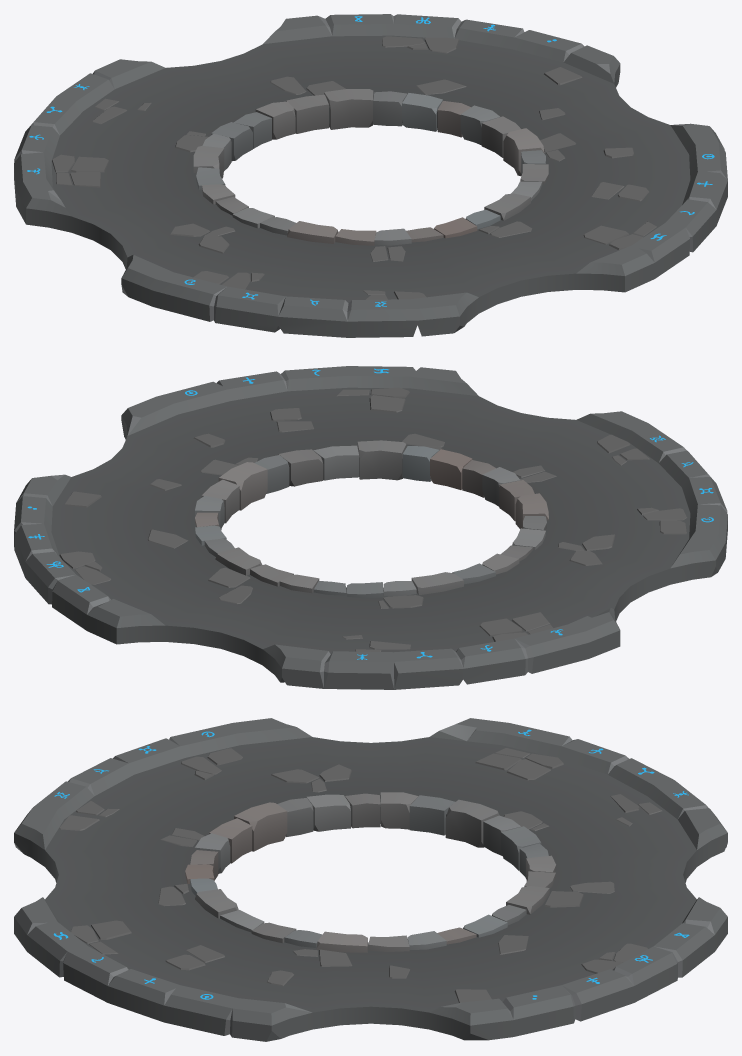
3 views of the same model, one above another, from view 1: azimuth 30°, elevation 25°; view 2: azimuth 150°, elevation 25°; view 3: azimuth 270°, elevation 25° (orthographic). The views are drawn at different scales.
Parts seen in each view (by area): view 1: circle_002; view 2: circle_002; view 3: circle_002.
Boxes of the visible parts, bbox=[...] form: circle_002: bbox=[14, 14, 727, 337]; circle_002: bbox=[14, 366, 727, 689]; circle_002: bbox=[14, 718, 727, 1041].
Bounding box in the file's own units: 28.77 × 1.38 × 28.77.
2 materials, 2 textured.
